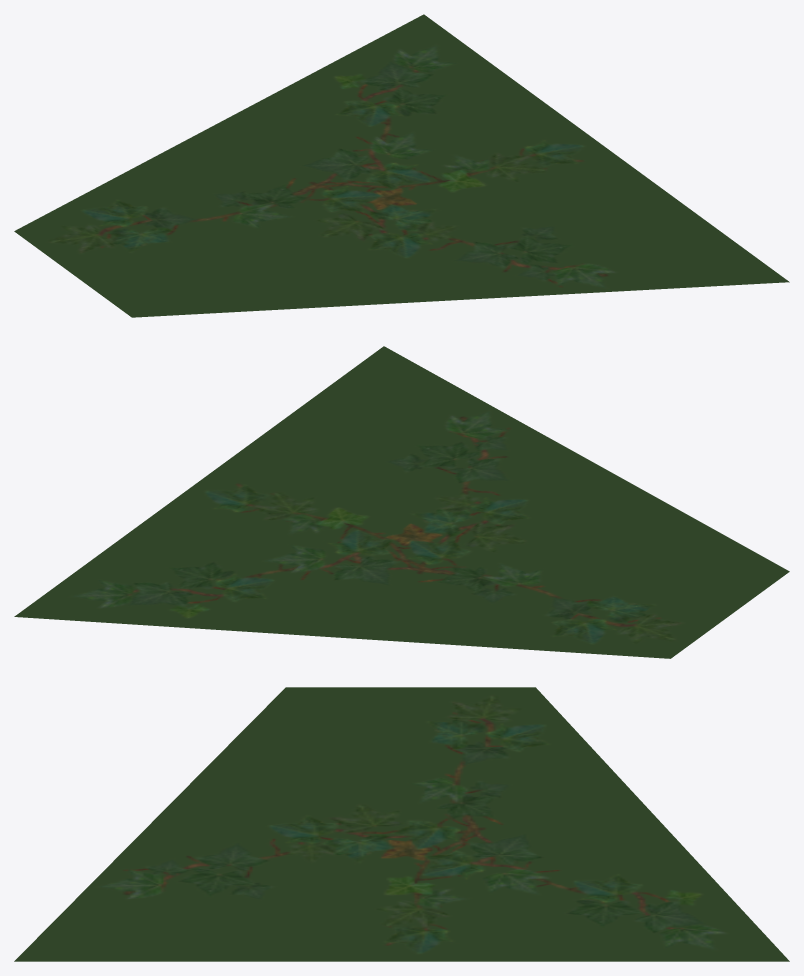
Rendered from Ground_cover8_LOD1.fbx.
The picture shows the model from 3 angles, top to bottom: view 1: azimuth 30°, elevation 25°; view 2: azimuth 150°, elevation 25°; view 3: azimuth 270°, elevation 25°; orthographic projection. The views are drawn at different scales.
Parts seen in each view (by area): view 1: polySurface898; view 2: polySurface898; view 3: polySurface898.
Boxes of the visible parts, bbox=[...] form: polySurface898: bbox=[14, 14, 789, 317]; polySurface898: bbox=[14, 346, 789, 658]; polySurface898: bbox=[14, 687, 789, 961].
Bounding box in the file's own units: 111 × 0 × 133.
